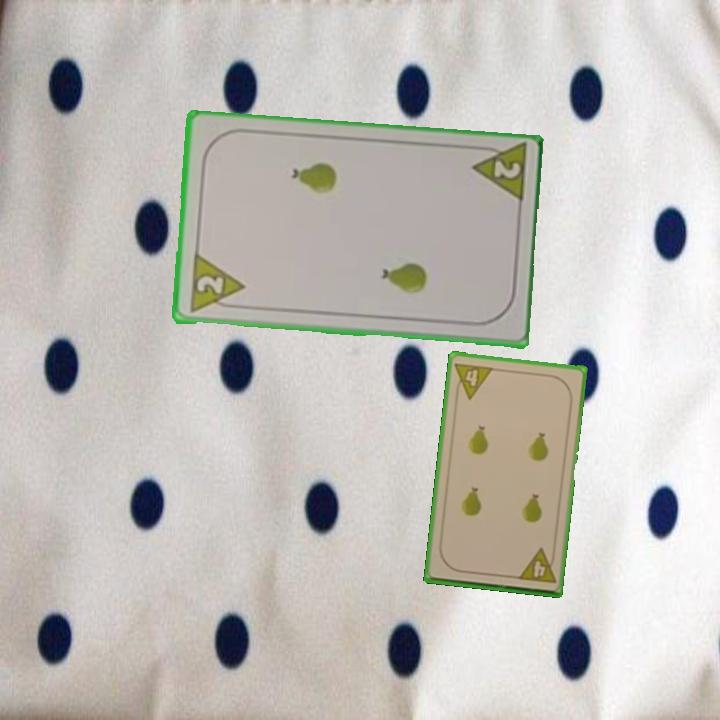2p: (185, 251, 247, 317), (467, 142, 529, 208)
4p: (451, 359, 496, 402), (514, 545, 559, 586)
